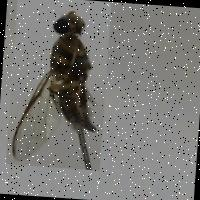Oriental-fruit-fly: (5, 0, 111, 169)
